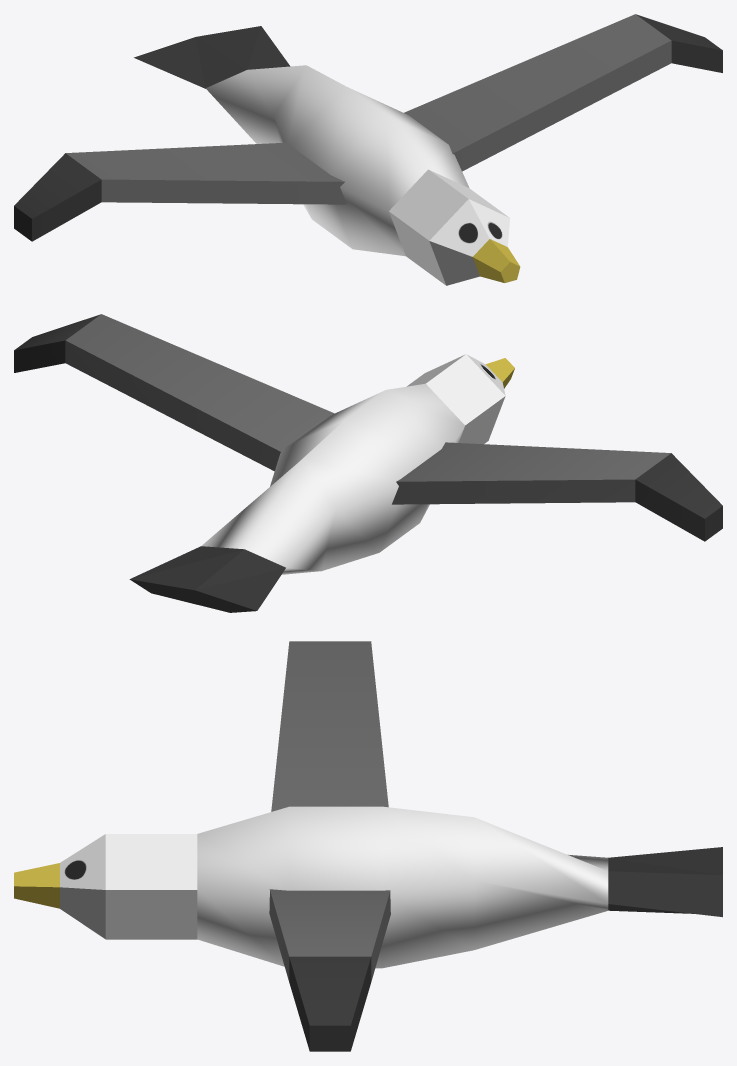
The model's file is Flying seagull.fbx.
The picture shows the model from 3 angles, top to bottom: view 1: azimuth 30°, elevation 25°; view 2: azimuth 150°, elevation 25°; view 3: azimuth 270°, elevation 25°; orthographic projection. The views are drawn at different scales.
Parts seen in each view (by area): view 1: Seagull; view 2: Seagull; view 3: Seagull.
Boxes of the visible parts, x1=… form: Seagull: x1=14, y1=14, x2=722, y2=285; Seagull: x1=14, y1=314, x2=722, y2=612; Seagull: x1=14, y1=641, x2=722, y2=1051.
Bounding box in the file's own units: 10.62 × 1.93 × 8.32.
